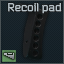Mosin AIM Sports Recoil pad: (0, 0, 64, 64)
